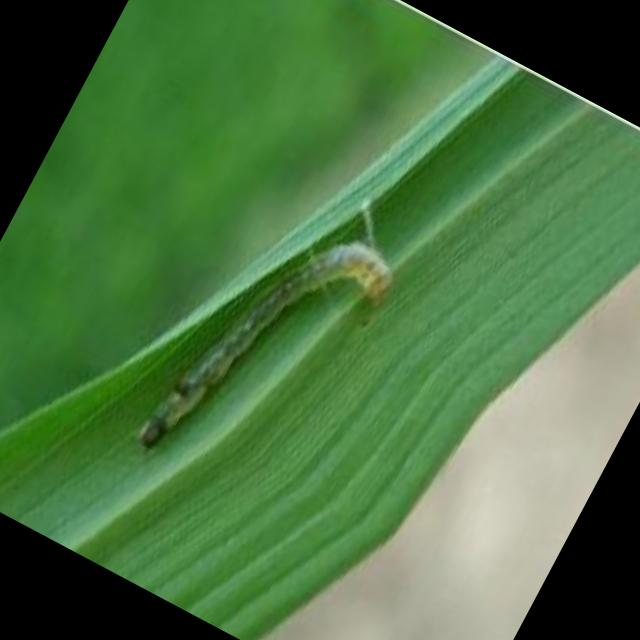leaf-folder: (117, 168, 418, 534)
